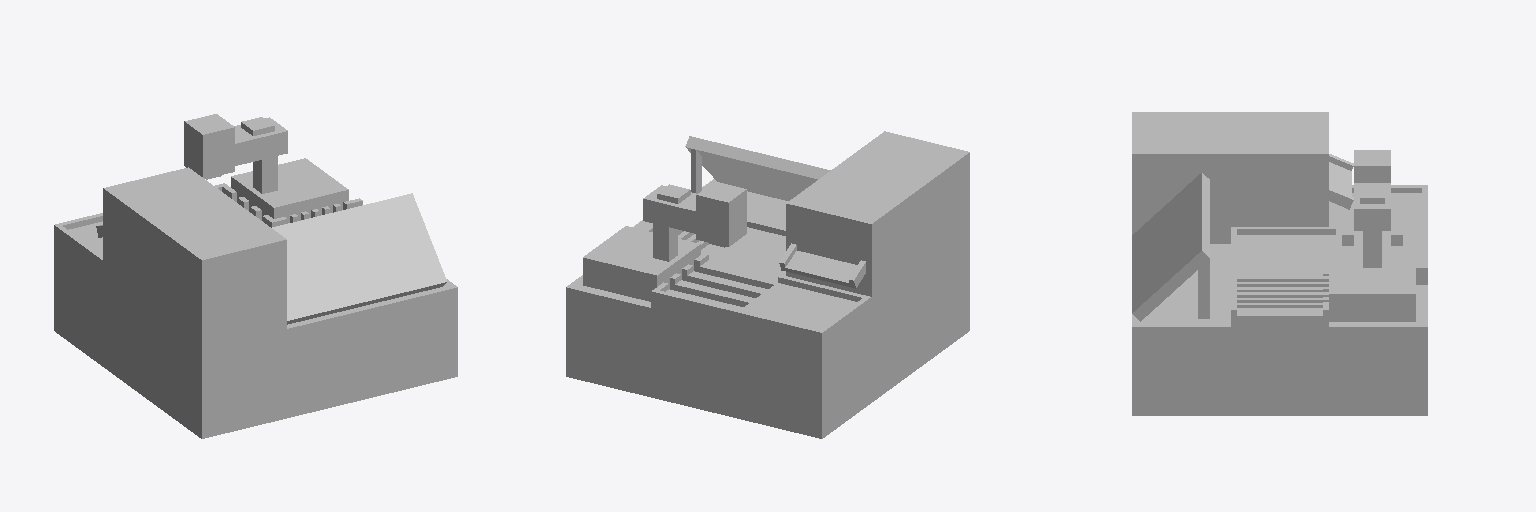
Rendered from auto_workbench.obj.
3 renders of one model, left to right at view 1: azimuth 30°, elevation 25°; view 2: azimuth 150°, elevation 25°; view 3: azimuth 270°, elevation 25°, orthographic.
Parts seen in each view (by area): view 1: base, conveyors; view 2: base, conveyors; view 3: base, conveyors.
Part boxes in pixels (x1,y1,x2,y2): base: (54,114,457,438); conveyors: (69,221,102,254); base: (566,131,969,438); conveyors: (633,220,856,328); base: (1132,112,1427,415); conveyors: (1237,193,1421,326).
Size of the model in its own units: 3 by 2.19 by 3.